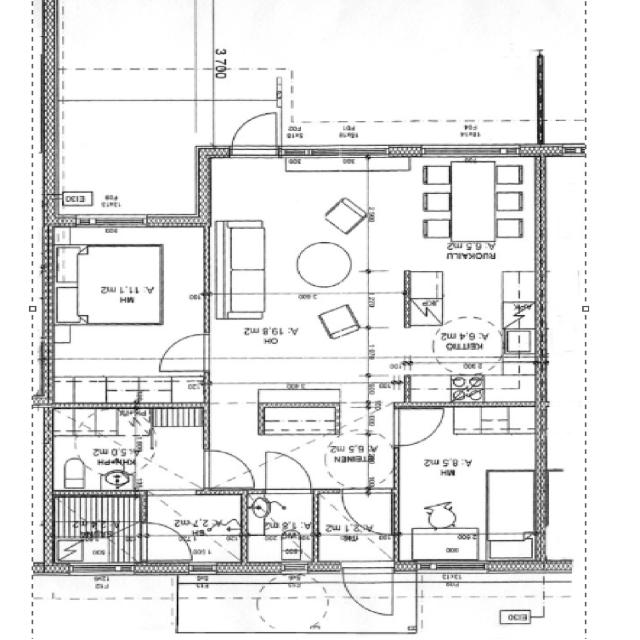door: (338, 564, 395, 618), (336, 488, 393, 535), (260, 446, 314, 494), (227, 107, 280, 153), (392, 406, 446, 450), (201, 445, 256, 487), (155, 328, 210, 369)
window: (286, 144, 385, 164), (418, 142, 521, 161), (414, 559, 488, 578), (76, 213, 150, 231), (65, 561, 133, 580), (227, 144, 282, 161), (278, 562, 312, 579), (186, 561, 219, 575)
zone: (206, 152, 545, 360), (42, 220, 210, 405), (206, 358, 400, 488), (393, 404, 545, 558), (48, 406, 204, 494), (138, 492, 245, 565), (52, 493, 143, 562), (244, 491, 318, 563)
